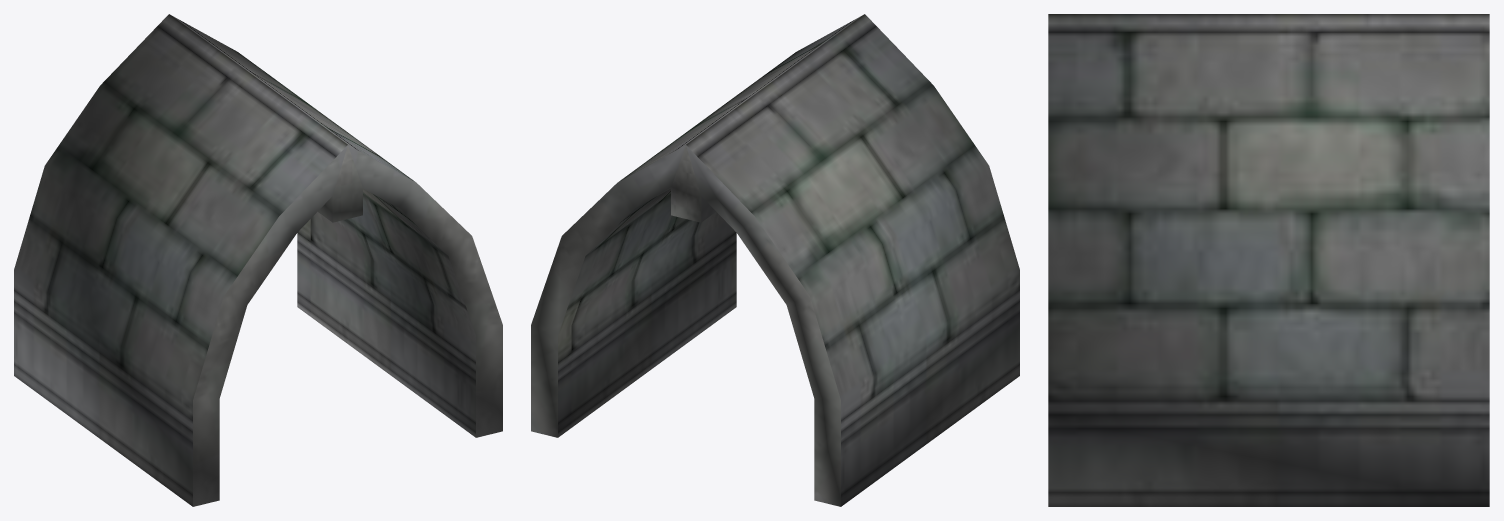
Rendered from sd_barrel_ceiling_small_01.glb.
3 renders of one model, left to right at view 1: azimuth 30°, elevation 25°; view 2: azimuth 150°, elevation 25°; view 3: azimuth 270°, elevation 25°, orthographic. The views are drawn at different scales.
Visible parts, largest first — view 1: barrel_ceiling_small_01; view 2: barrel_ceiling_small_01; view 3: barrel_ceiling_small_01.
Part boxes in pixels (bbox=[...]): barrel_ceiling_small_01: bbox=[14, 14, 502, 506]; barrel_ceiling_small_01: bbox=[531, 14, 1019, 506]; barrel_ceiling_small_01: bbox=[1048, 14, 1489, 506].
Bounding box in the file's own units: 2 × 2 × 2.
Materials: 1 (1 with a texture image).
